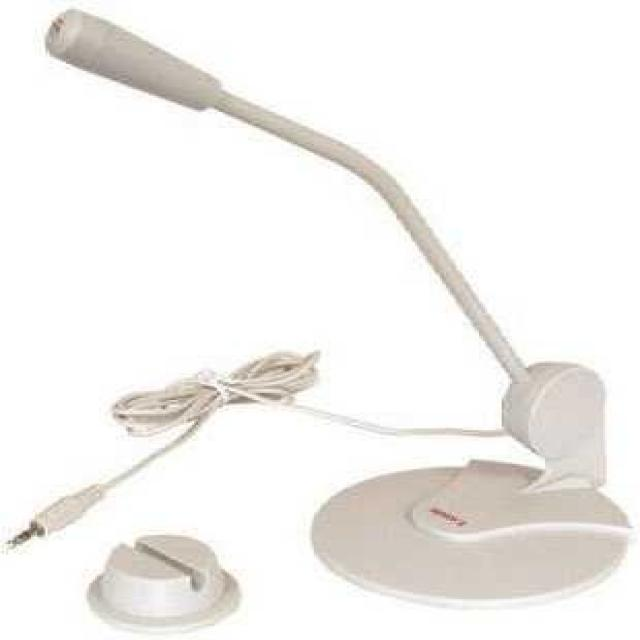microphone: (34, 1, 319, 128)
